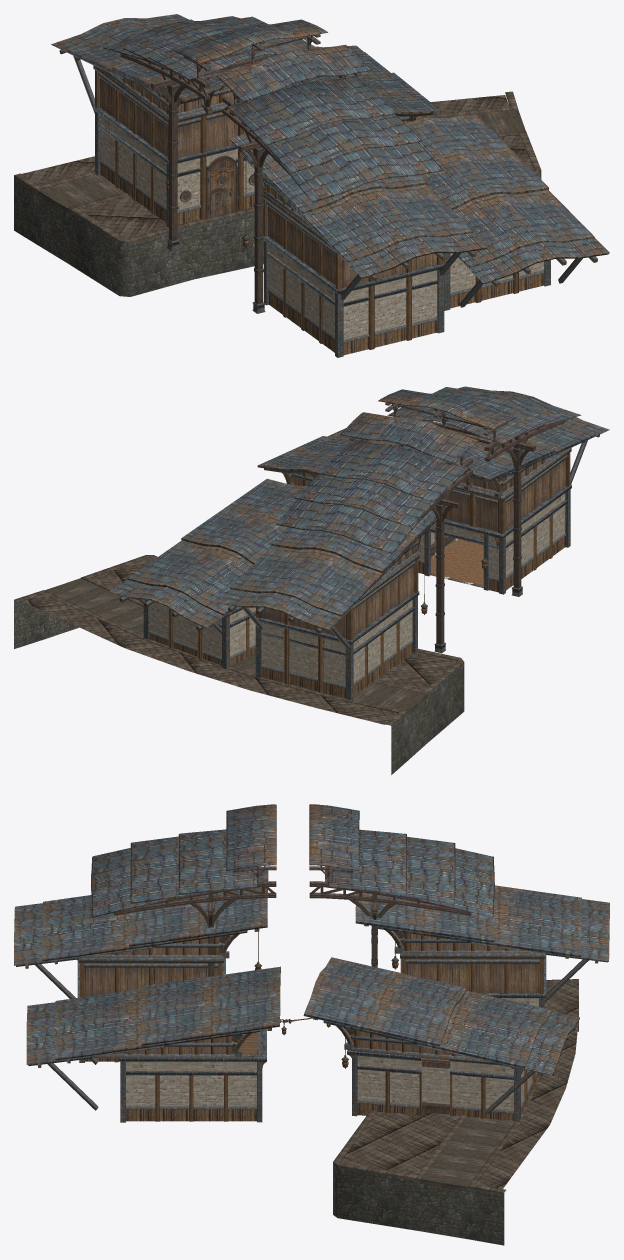
Rendered from tong.fbx.
3 views of the same model, one above another, from view 1: azimuth 30°, elevation 25°; view 2: azimuth 150°, elevation 25°; view 3: azimuth 270°, elevation 25° (orthographic). The views are drawn at different scales.
Parts seen in each view (by area): view 1: LV_Arena01_MGActor04_HSH; view 2: LV_Arena01_MGActor04_HSH; view 3: LV_Arena01_MGActor04_HSH.
Part boxes in pixels (<box>): LV_Arena01_MGActor04_HSH: <box>14,14,609,357</box>; LV_Arena01_MGActor04_HSH: <box>14,386,609,774</box>; LV_Arena01_MGActor04_HSH: <box>14,804,609,1245</box>.
Size of the model in its own units: 9.97 by 5.53 by 11.74.
